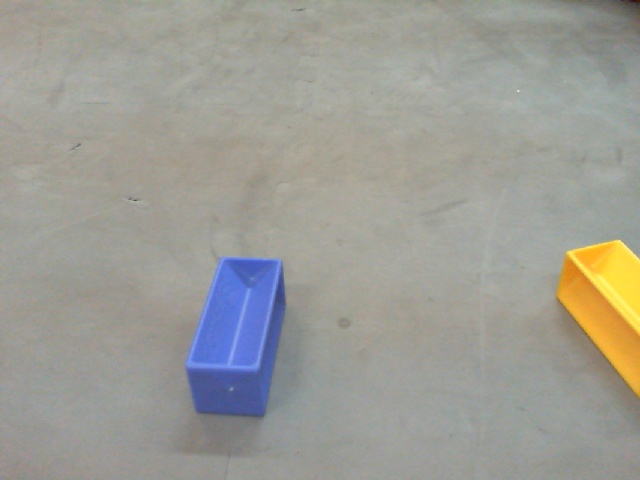BlueSample: (184, 256, 287, 416)
YellowSample: (555, 238, 640, 398)
